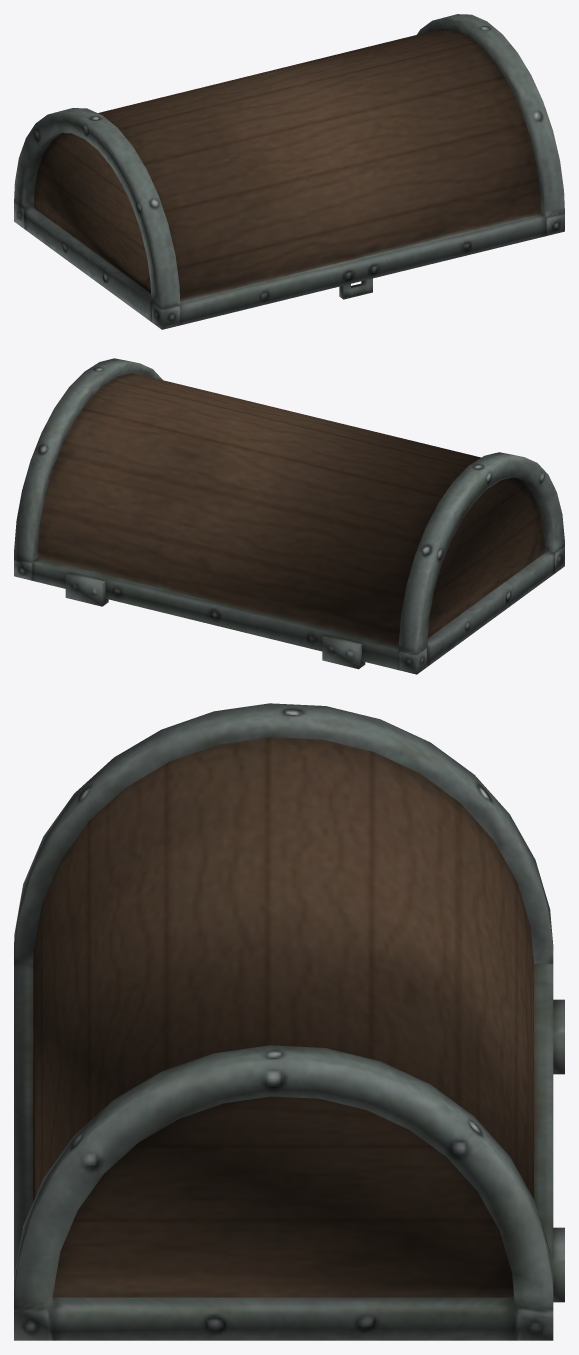
File: chestLid.glb
3 views of the same model, one above another, from view 1: azimuth 30°, elevation 25°; view 2: azimuth 150°, elevation 25°; view 3: azimuth 270°, elevation 25° (orthographic). The views are drawn at different scales.
Visible parts, largest first — view 1: chest.jpg__; view 2: chest.jpg__; view 3: chest.jpg__.
Boxes of the visible parts, <box> form: chest.jpg__: <box>14,14,564,329</box>; chest.jpg__: <box>14,358,564,674</box>; chest.jpg__: <box>14,703,564,1340</box>.
Size of the model in its own units: 8.8 by 3.6 by 5.72.
1 material, 1 textured.
